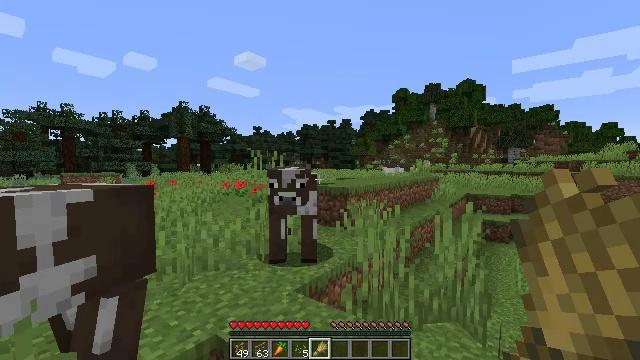cow: (0, 185, 155, 360), (265, 168, 317, 264)
sheep: (383, 167, 395, 174), (395, 167, 404, 172)
